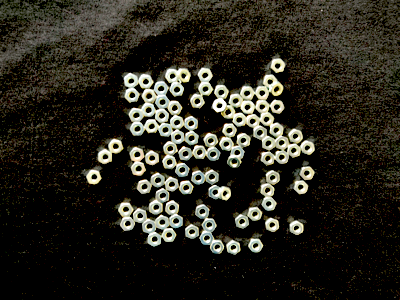nut: (108, 139, 124, 155), (86, 170, 103, 185), (120, 217, 136, 232), (118, 203, 134, 218), (124, 73, 139, 89), (125, 88, 140, 104), (129, 108, 145, 123), (155, 215, 170, 231), (162, 155, 177, 171), (170, 82, 185, 98), (185, 224, 200, 240), (190, 94, 205, 110), (198, 82, 214, 97), (248, 239, 264, 254), (266, 170, 281, 186), (133, 209, 148, 224), (137, 180, 152, 195), (131, 162, 146, 177), (130, 122, 145, 137), (142, 219, 157, 234), (139, 75, 154, 90), (165, 201, 180, 216), (155, 109, 170, 124), (170, 116, 185, 131), (168, 101, 183, 116), (175, 163, 190, 178), (179, 181, 194, 196), (191, 171, 206, 186), (210, 240, 225, 255), (206, 147, 221, 162), (221, 105, 236, 120), (229, 94, 244, 109), (233, 113, 248, 128), (294, 181, 309, 196), (261, 152, 276, 167), (240, 86, 255, 101), (271, 59, 286, 74), (263, 75, 278, 90), (269, 82, 284, 97), (270, 100, 285, 115), (289, 129, 304, 144), (301, 141, 316, 156), (146, 151, 160, 167), (148, 232, 162, 248), (151, 173, 165, 189), (149, 200, 163, 216), (170, 214, 184, 230), (165, 177, 179, 193), (155, 95, 171, 109), (185, 116, 199, 132), (202, 219, 218, 233), (199, 232, 215, 246), (227, 240, 241, 256), (214, 85, 230, 99), (222, 124, 238, 138), (237, 133, 251, 149), (236, 214, 250, 230), (98, 150, 112, 165), (130, 148, 145, 162), (144, 120, 159, 134), (142, 103, 156, 118), (142, 90, 157, 104), (156, 189, 170, 204), (162, 229, 177, 243), (164, 142, 178, 157), (159, 123, 173, 138), (154, 82, 169, 96), (171, 130, 185, 145), (177, 69, 191, 84), (179, 147, 193, 162), (185, 131, 199, 146), (218, 187, 232, 202), (196, 205, 210, 220), (193, 146, 208, 160), (204, 134, 219, 148), (198, 68, 213, 82), (213, 99, 227, 114), (220, 137, 234, 152), (227, 155, 242, 169), (248, 208, 263, 222), (266, 218, 280, 233), (290, 221, 304, 236), (262, 198, 277, 212), (260, 184, 275, 198), (300, 167, 315, 181), (241, 101, 256, 115), (262, 136, 276, 151), (256, 86, 270, 101), (256, 100, 271, 114), (261, 112, 275, 127), (270, 123, 284, 138), (275, 136, 289, 151), (287, 144, 301, 159), (206, 170, 219, 186), (247, 114, 260, 130), (276, 151, 290, 165), (165, 69, 178, 84), (254, 126, 267, 141), (231, 146, 245, 159), (209, 185, 220, 201)
